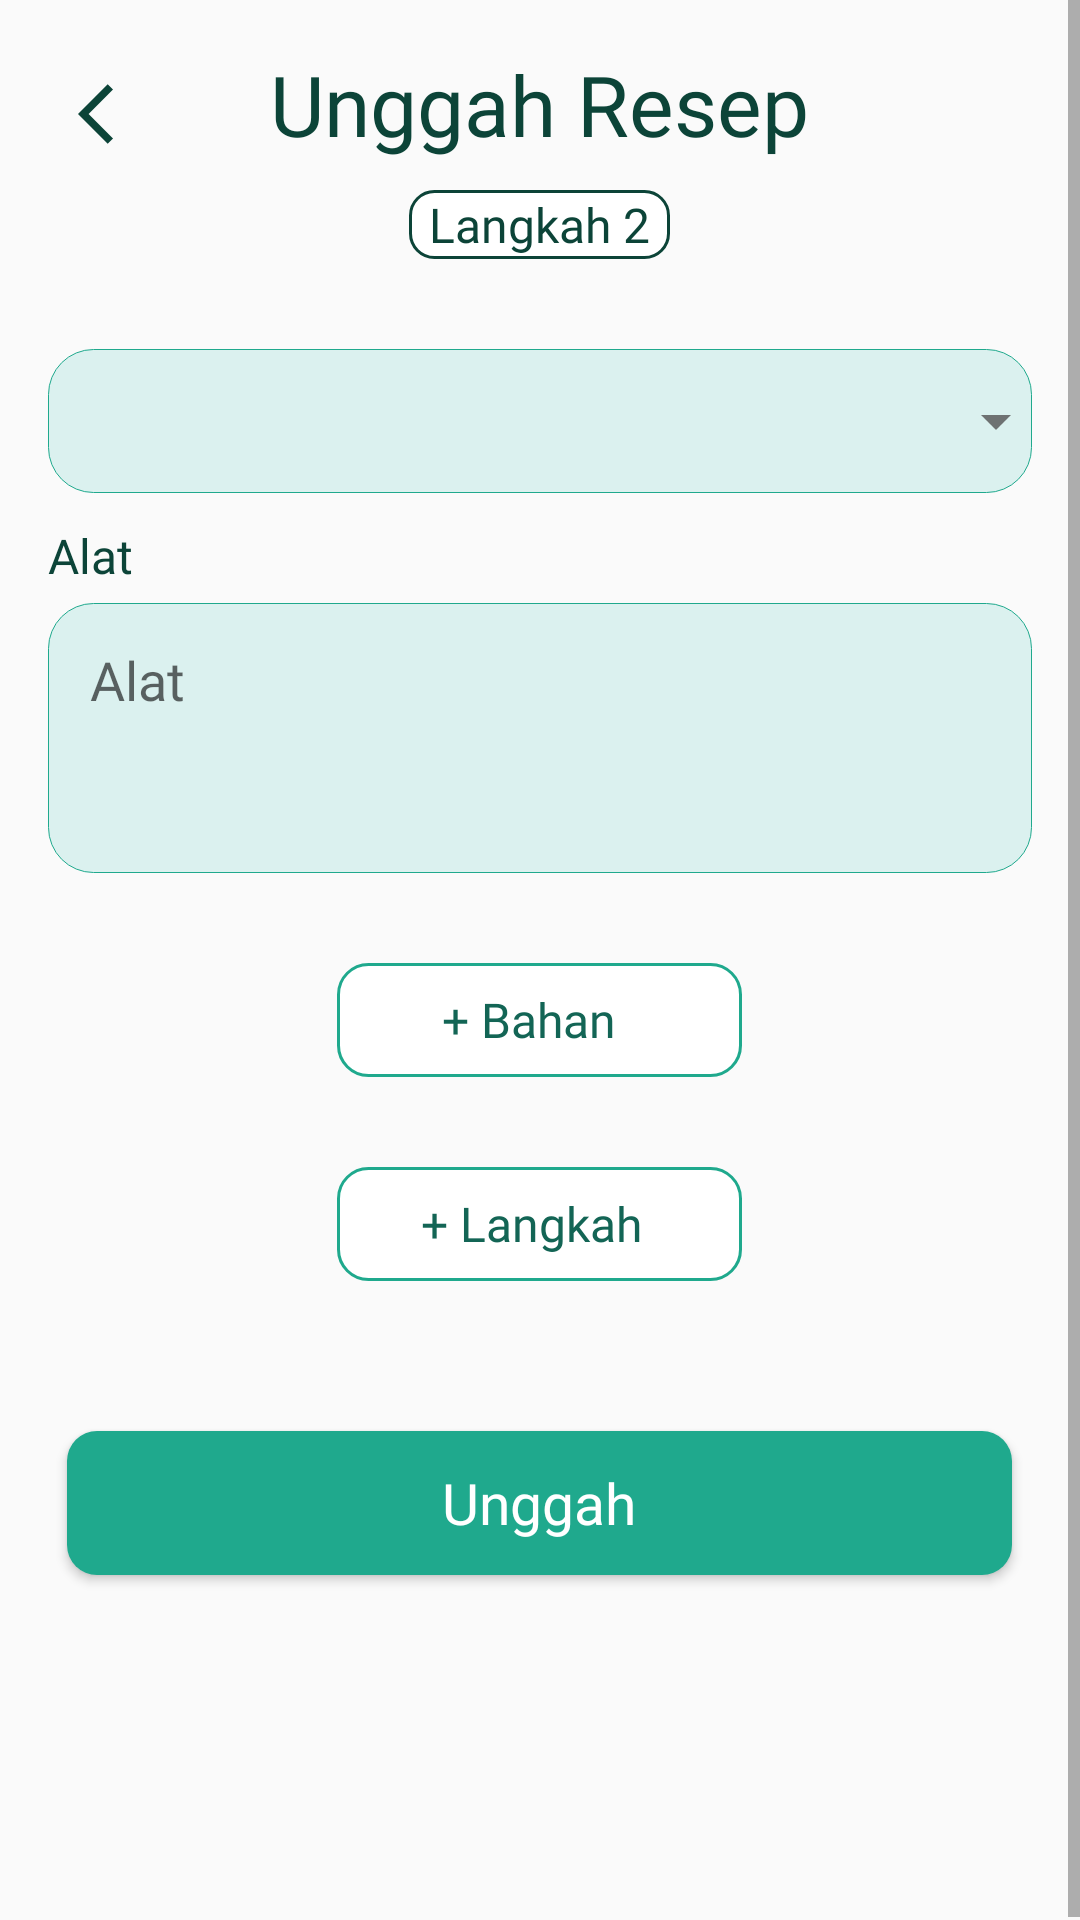

Where icons sit on this 1080 × 1920 app screen, as (x1, y1, x2, y2):
arrow back: (78, 84, 113, 144)
